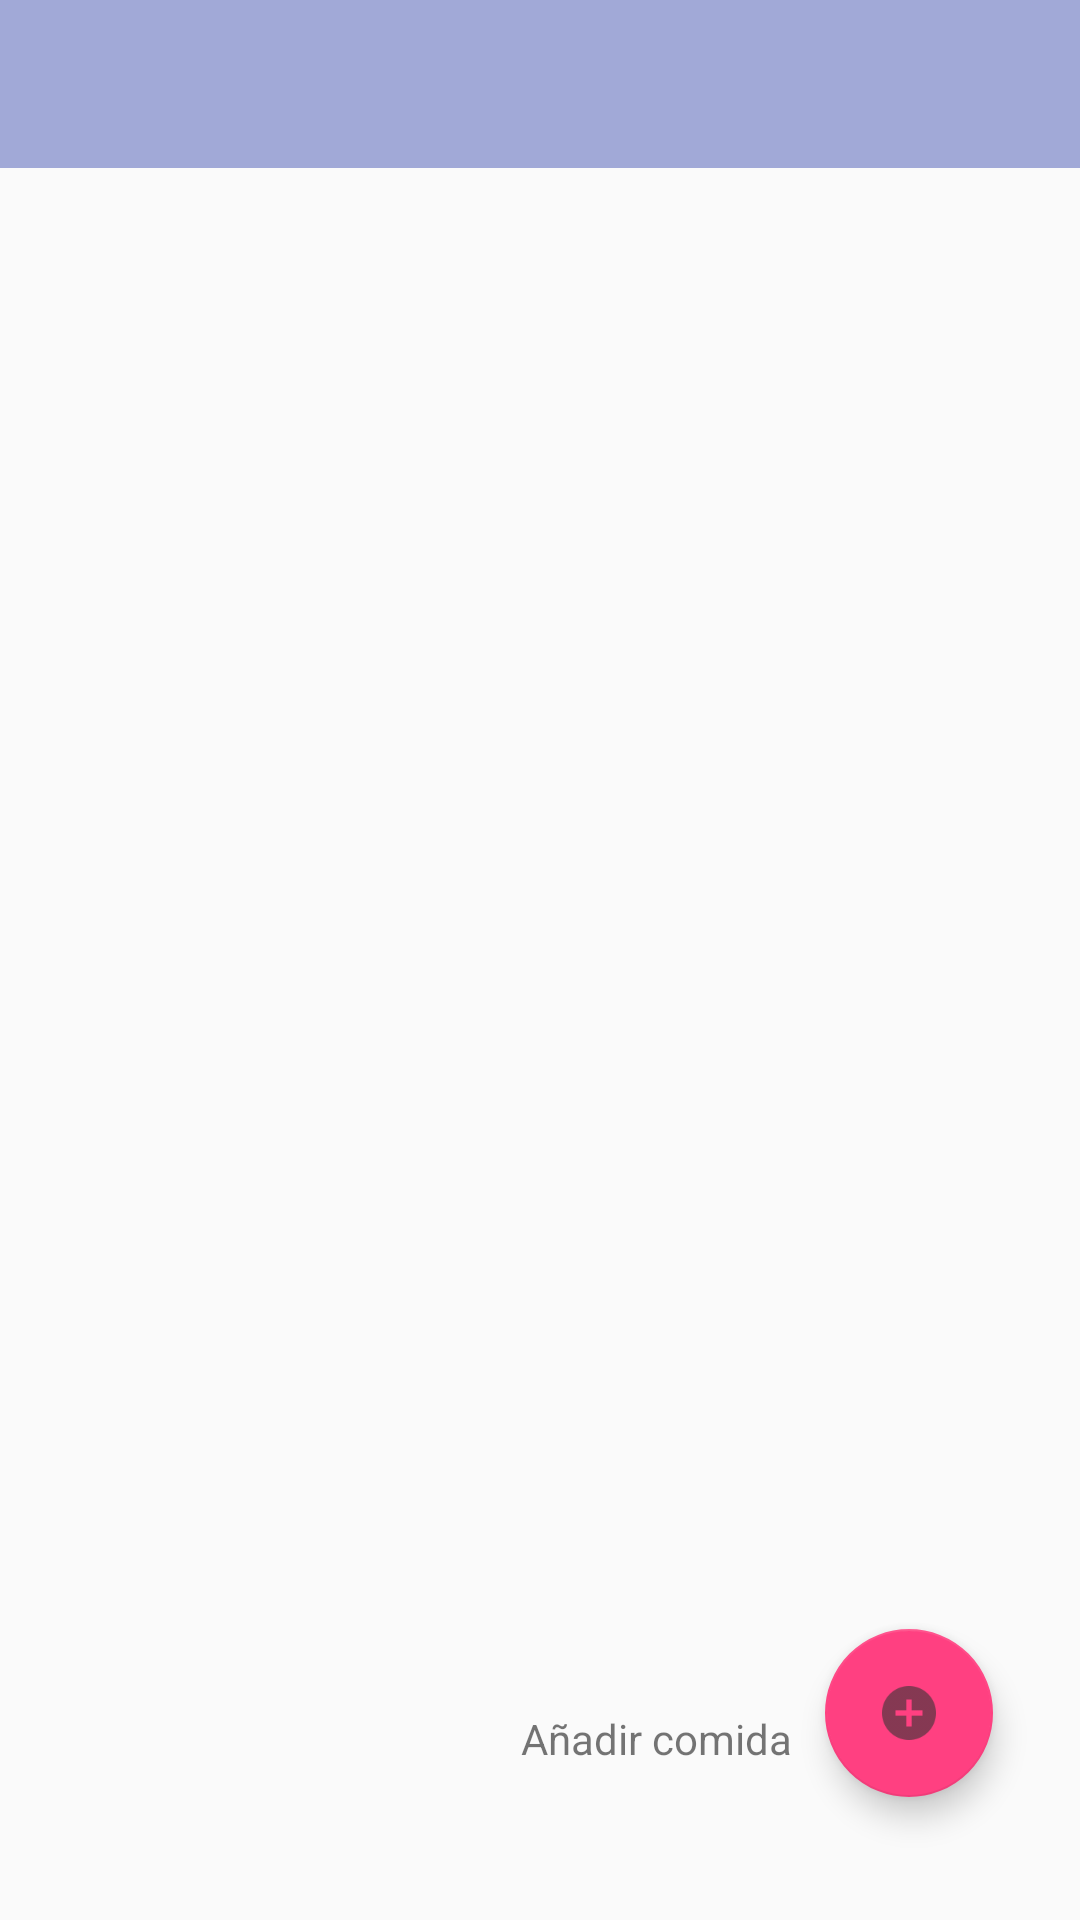

Icons on this 1080w x 1920h Android screen, each with the point to tap as (x,y):
anadir: (909,1713)
